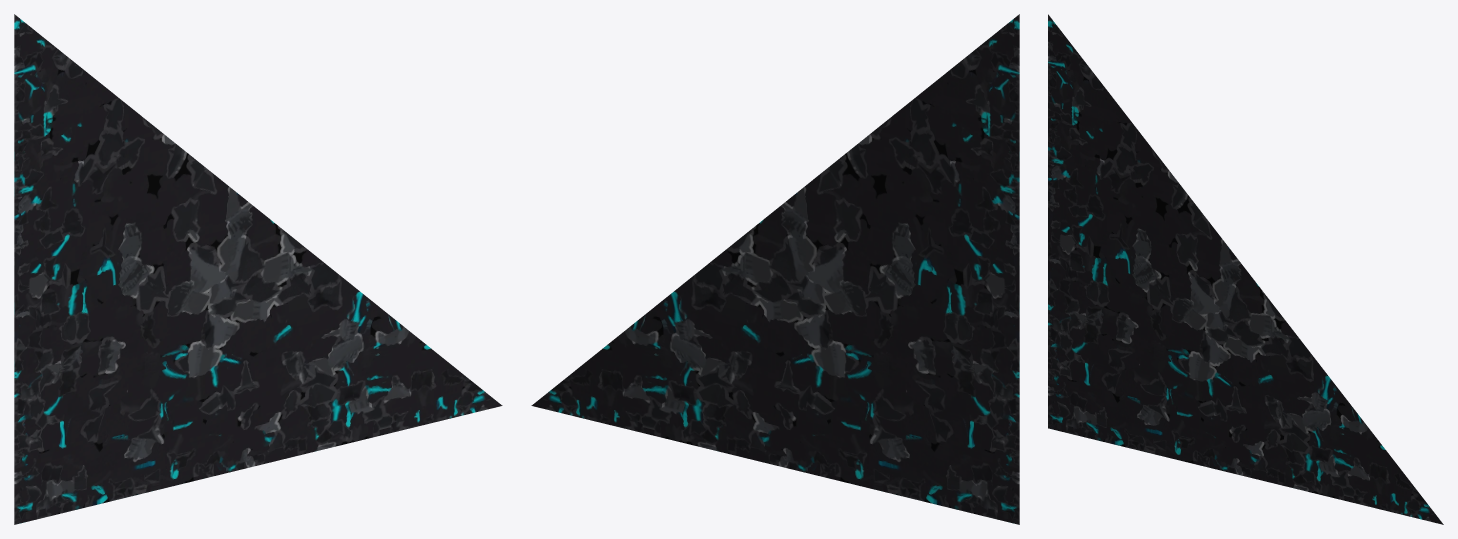
File: training-maps-hi.glb
The picture shows the model from 3 angles, left to right: view 1: azimuth 30°, elevation 25°; view 2: azimuth 150°, elevation 25°; view 3: azimuth 330°, elevation 25°; orthographic projection. The views are drawn at different scales.
Visible parts, largest first — view 1: armor_training_1_maps; view 2: armor_training_1_maps; view 3: armor_training_1_maps.
Boxes of the visible parts, left/top/right/bottom form: armor_training_1_maps: left=14, top=14, right=502, bottom=524; armor_training_1_maps: left=531, top=14, right=1019, bottom=524; armor_training_1_maps: left=1048, top=14, right=1443, bottom=524.
Size of the model in its own units: 0.001 by 0.001 by 0.
Materials: 1 (1 with a texture image).
